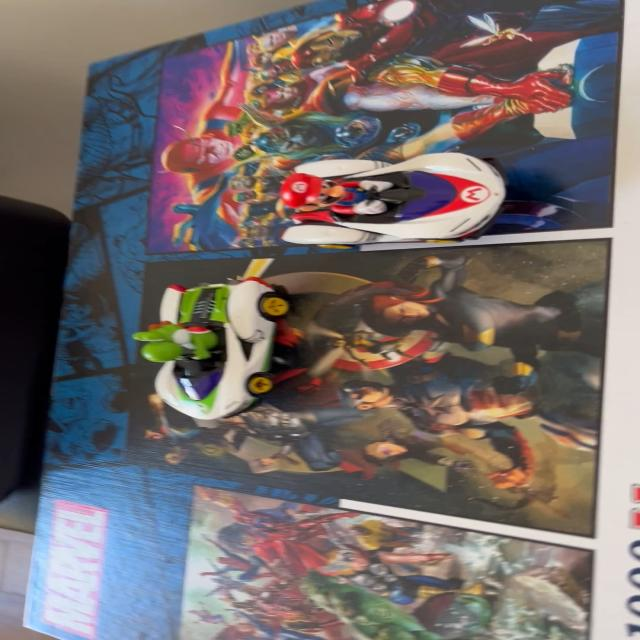mario: (262, 146, 526, 250)
yoshi: (117, 272, 299, 436)
